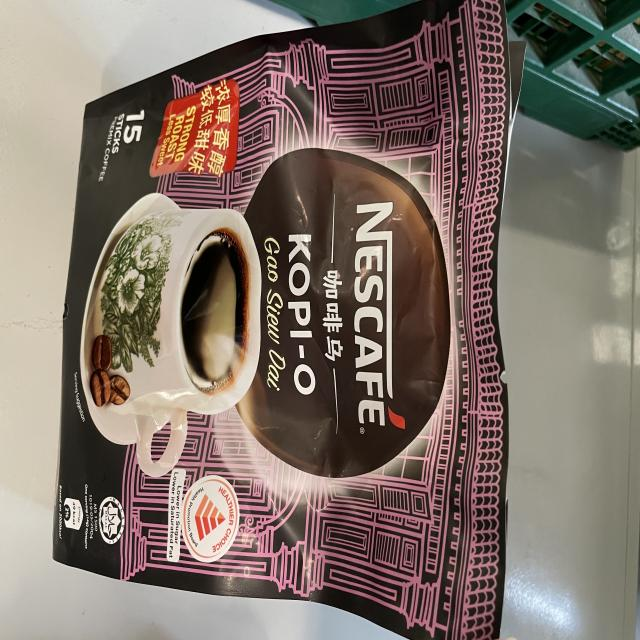object_name: (65, 56, 493, 626)
